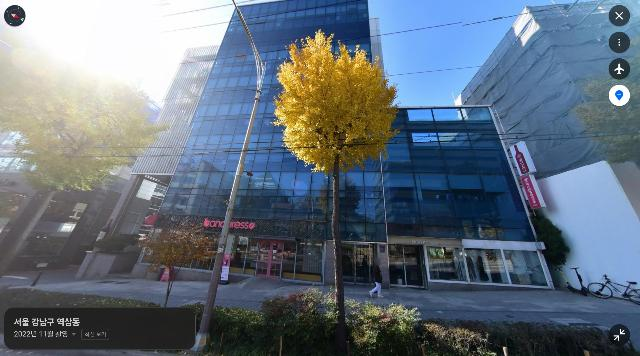ginkgo: (270, 28, 401, 356)
